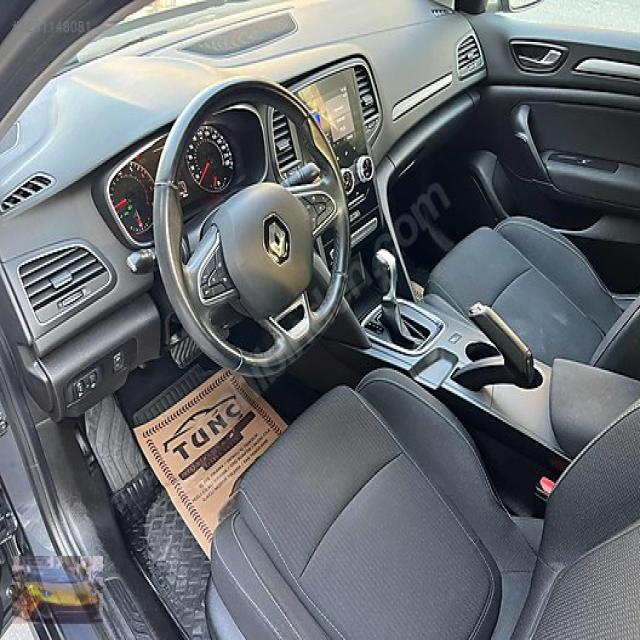renault: (267, 216, 291, 260)
